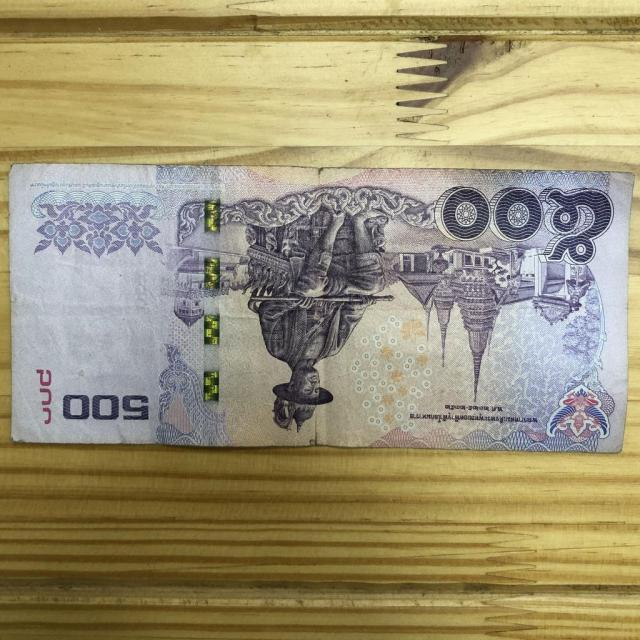THAI500: (9, 164, 634, 453)
